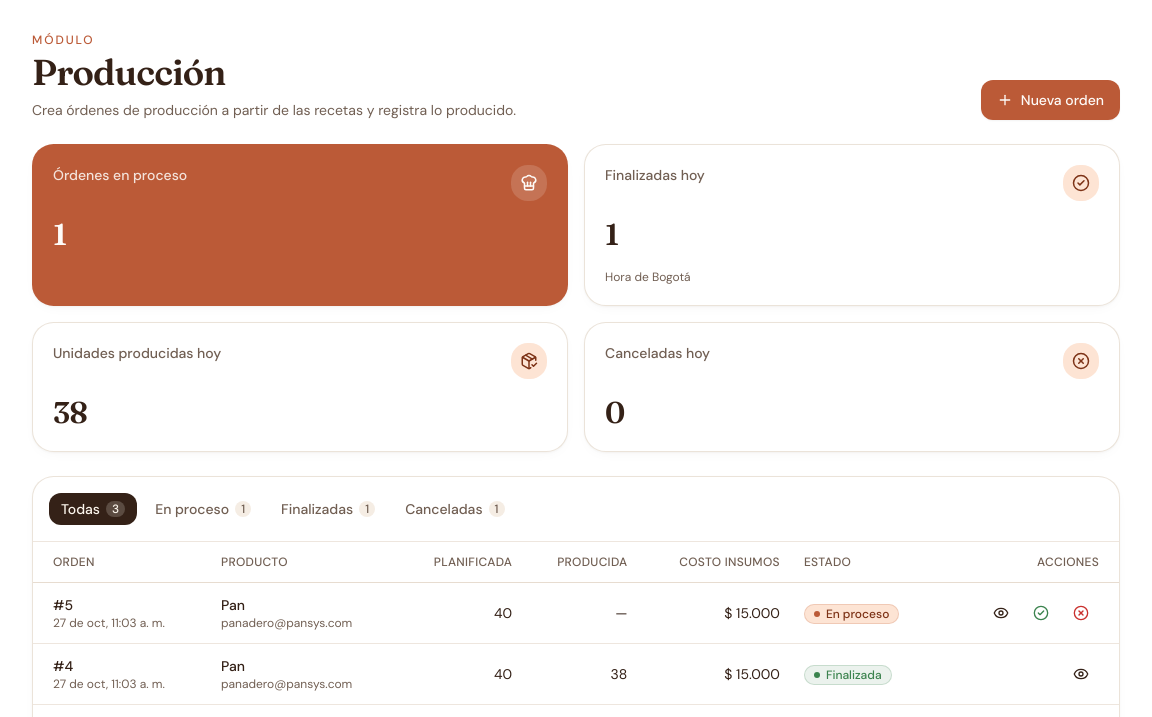
Scenario: Listado e indicadores › filtra por estado y solo las órdenes en proceso tienen Finalizar y Cancelar
The width and height of the screenshot is (1152, 717).
Expected: the row "#5" is shown, [33,582,1119,643]
Expected: the button named "Finalizar la orden #5" is enabled, [1023,594,1059,630]
Click the button "Finalizadas 1".
click(328, 509)  # box [269,493,387,525]
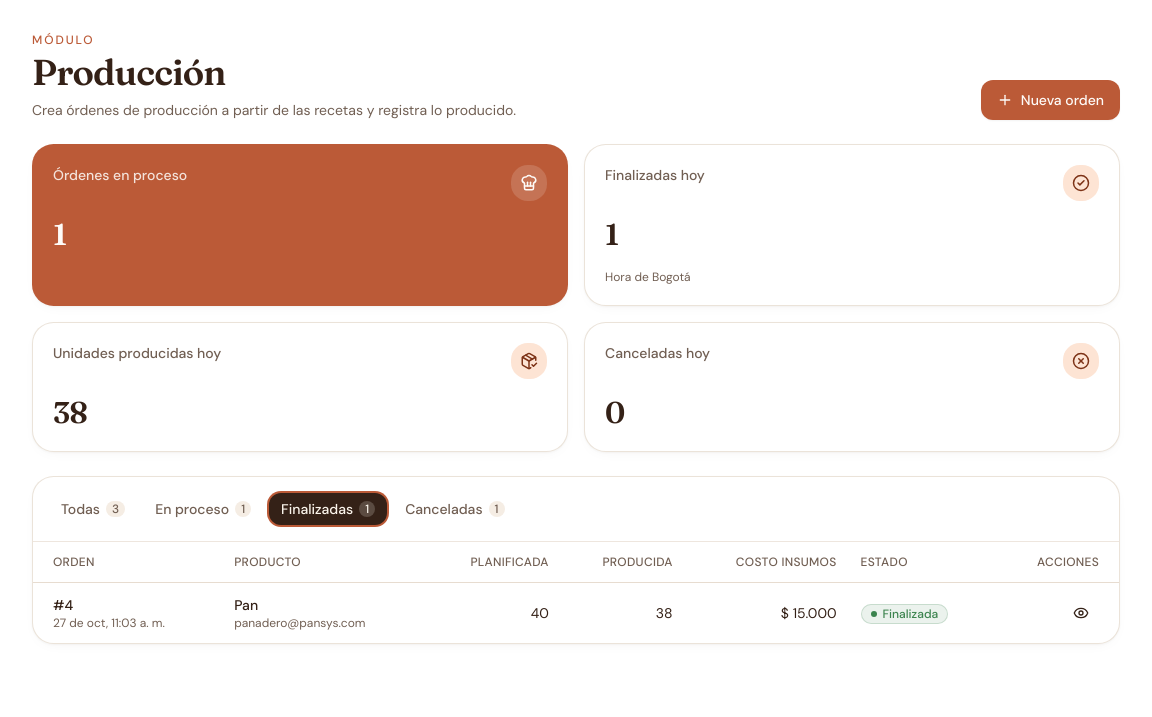
Expected: the row "#4" is shown, [33,582,1119,642]
Expected: the text "#5" is gone
